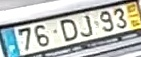3: (112, 6, 127, 30)
6: (32, 23, 51, 47)
7: (16, 25, 32, 52)
9: (97, 9, 114, 33)
D: (57, 18, 78, 44)
J: (78, 13, 93, 38)
